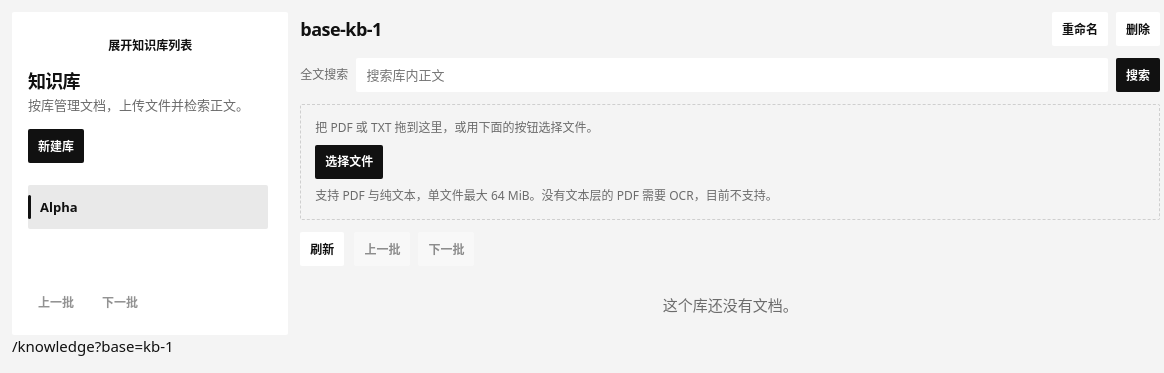
Scenario: KnowledgePage › clears the hits when the search is refused
The width and height of the screenshot is (1164, 373).
Type "needle" into the search field labelled "全文搜索" at [732, 75], box [356,58,1108,92]
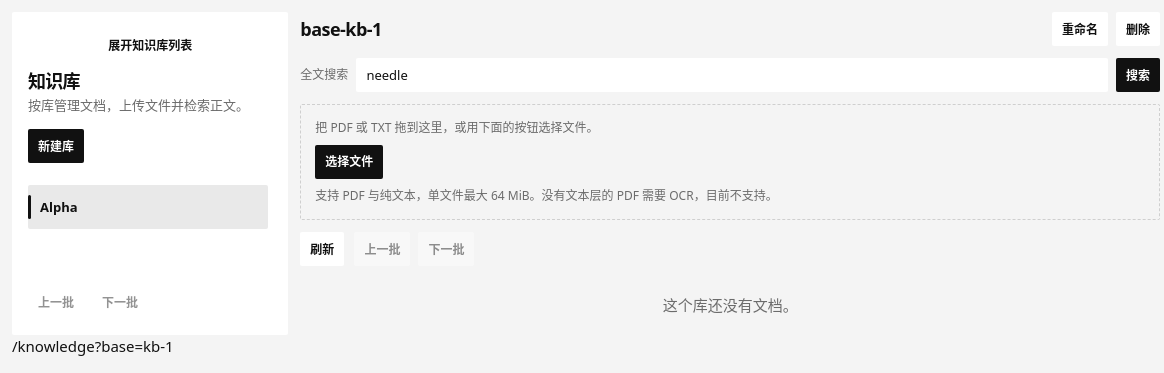
Click the button "搜索" at [1138, 75], box [1116,58,1160,92]
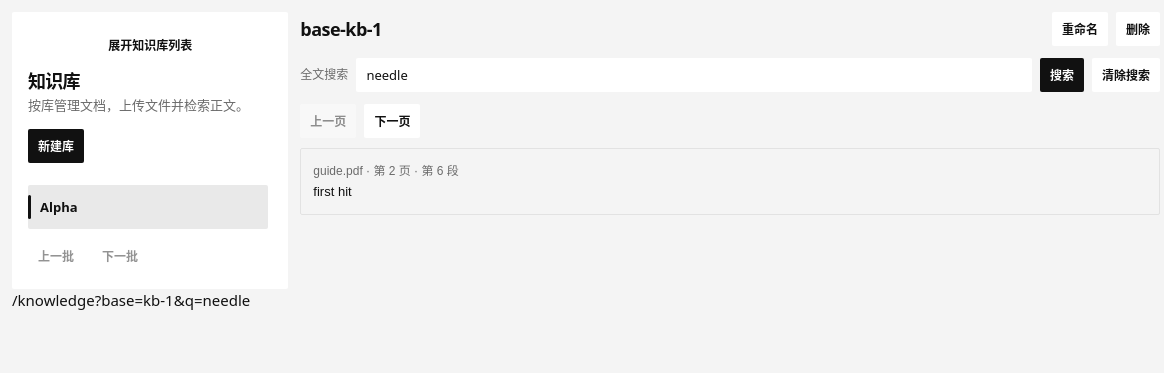
Now the text "first hit" is shown, box [313,182,352,202]
Click the button "下一页" at [392, 121], box [364,104,420,138]
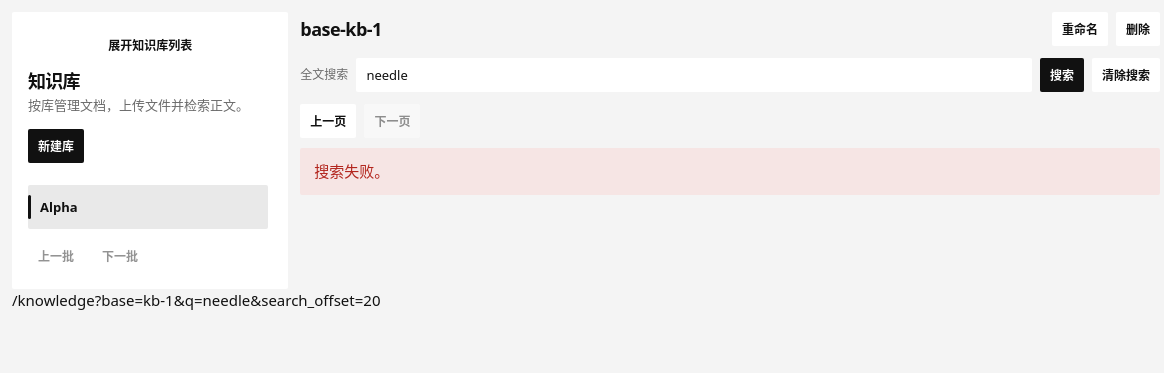
Now the text "搜索失败。" is shown, box [300,148,1160,194]
Now the button "first hit" is gone
